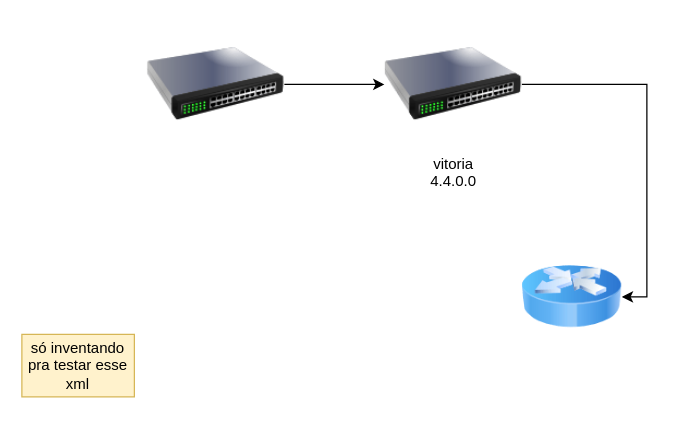
Some shapes in this 679 by 430 pixel diagram are drawn without their labels. The centre of each missing label's shape, as x and y in pixels:
"palmas 10.150.0.69" goes at [571,296].
"varzedo 7.7.0.0" goes at [215,83].
